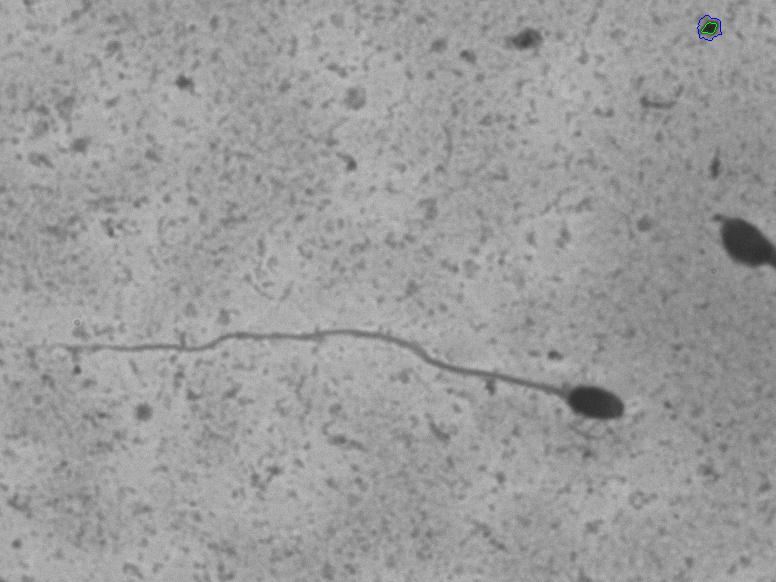Normal: (35, 291, 676, 442)
